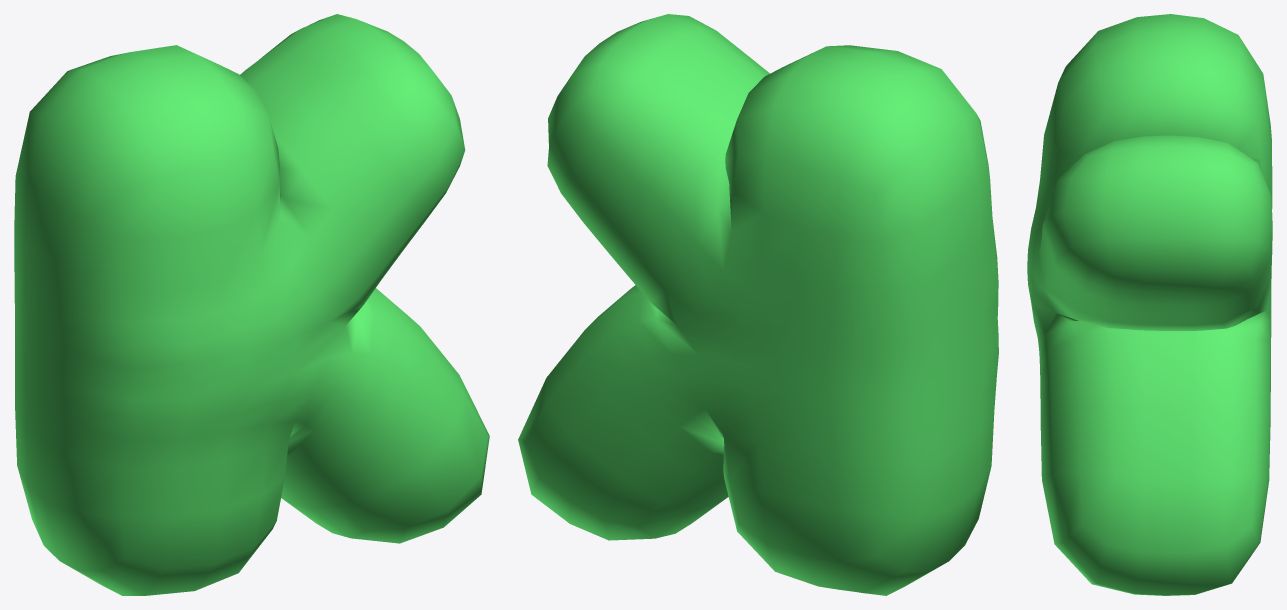
3 renders of one model, left to right at view 1: azimuth 30°, elevation 25°; view 2: azimuth 150°, elevation 25°; view 3: azimuth 270°, elevation 25°, orthographic. The views are drawn at different scales.
Visible parts, largest first — view 1: Object_24; view 2: Object_24; view 3: Object_24.
Part boxes in pixels (x1,y1,x2,y2): Object_24: (14, 14, 489, 595); Object_24: (518, 14, 998, 595); Object_24: (1027, 14, 1272, 595).
Size of the model in its own units: 83.38 by 97.76 by 46.94.
